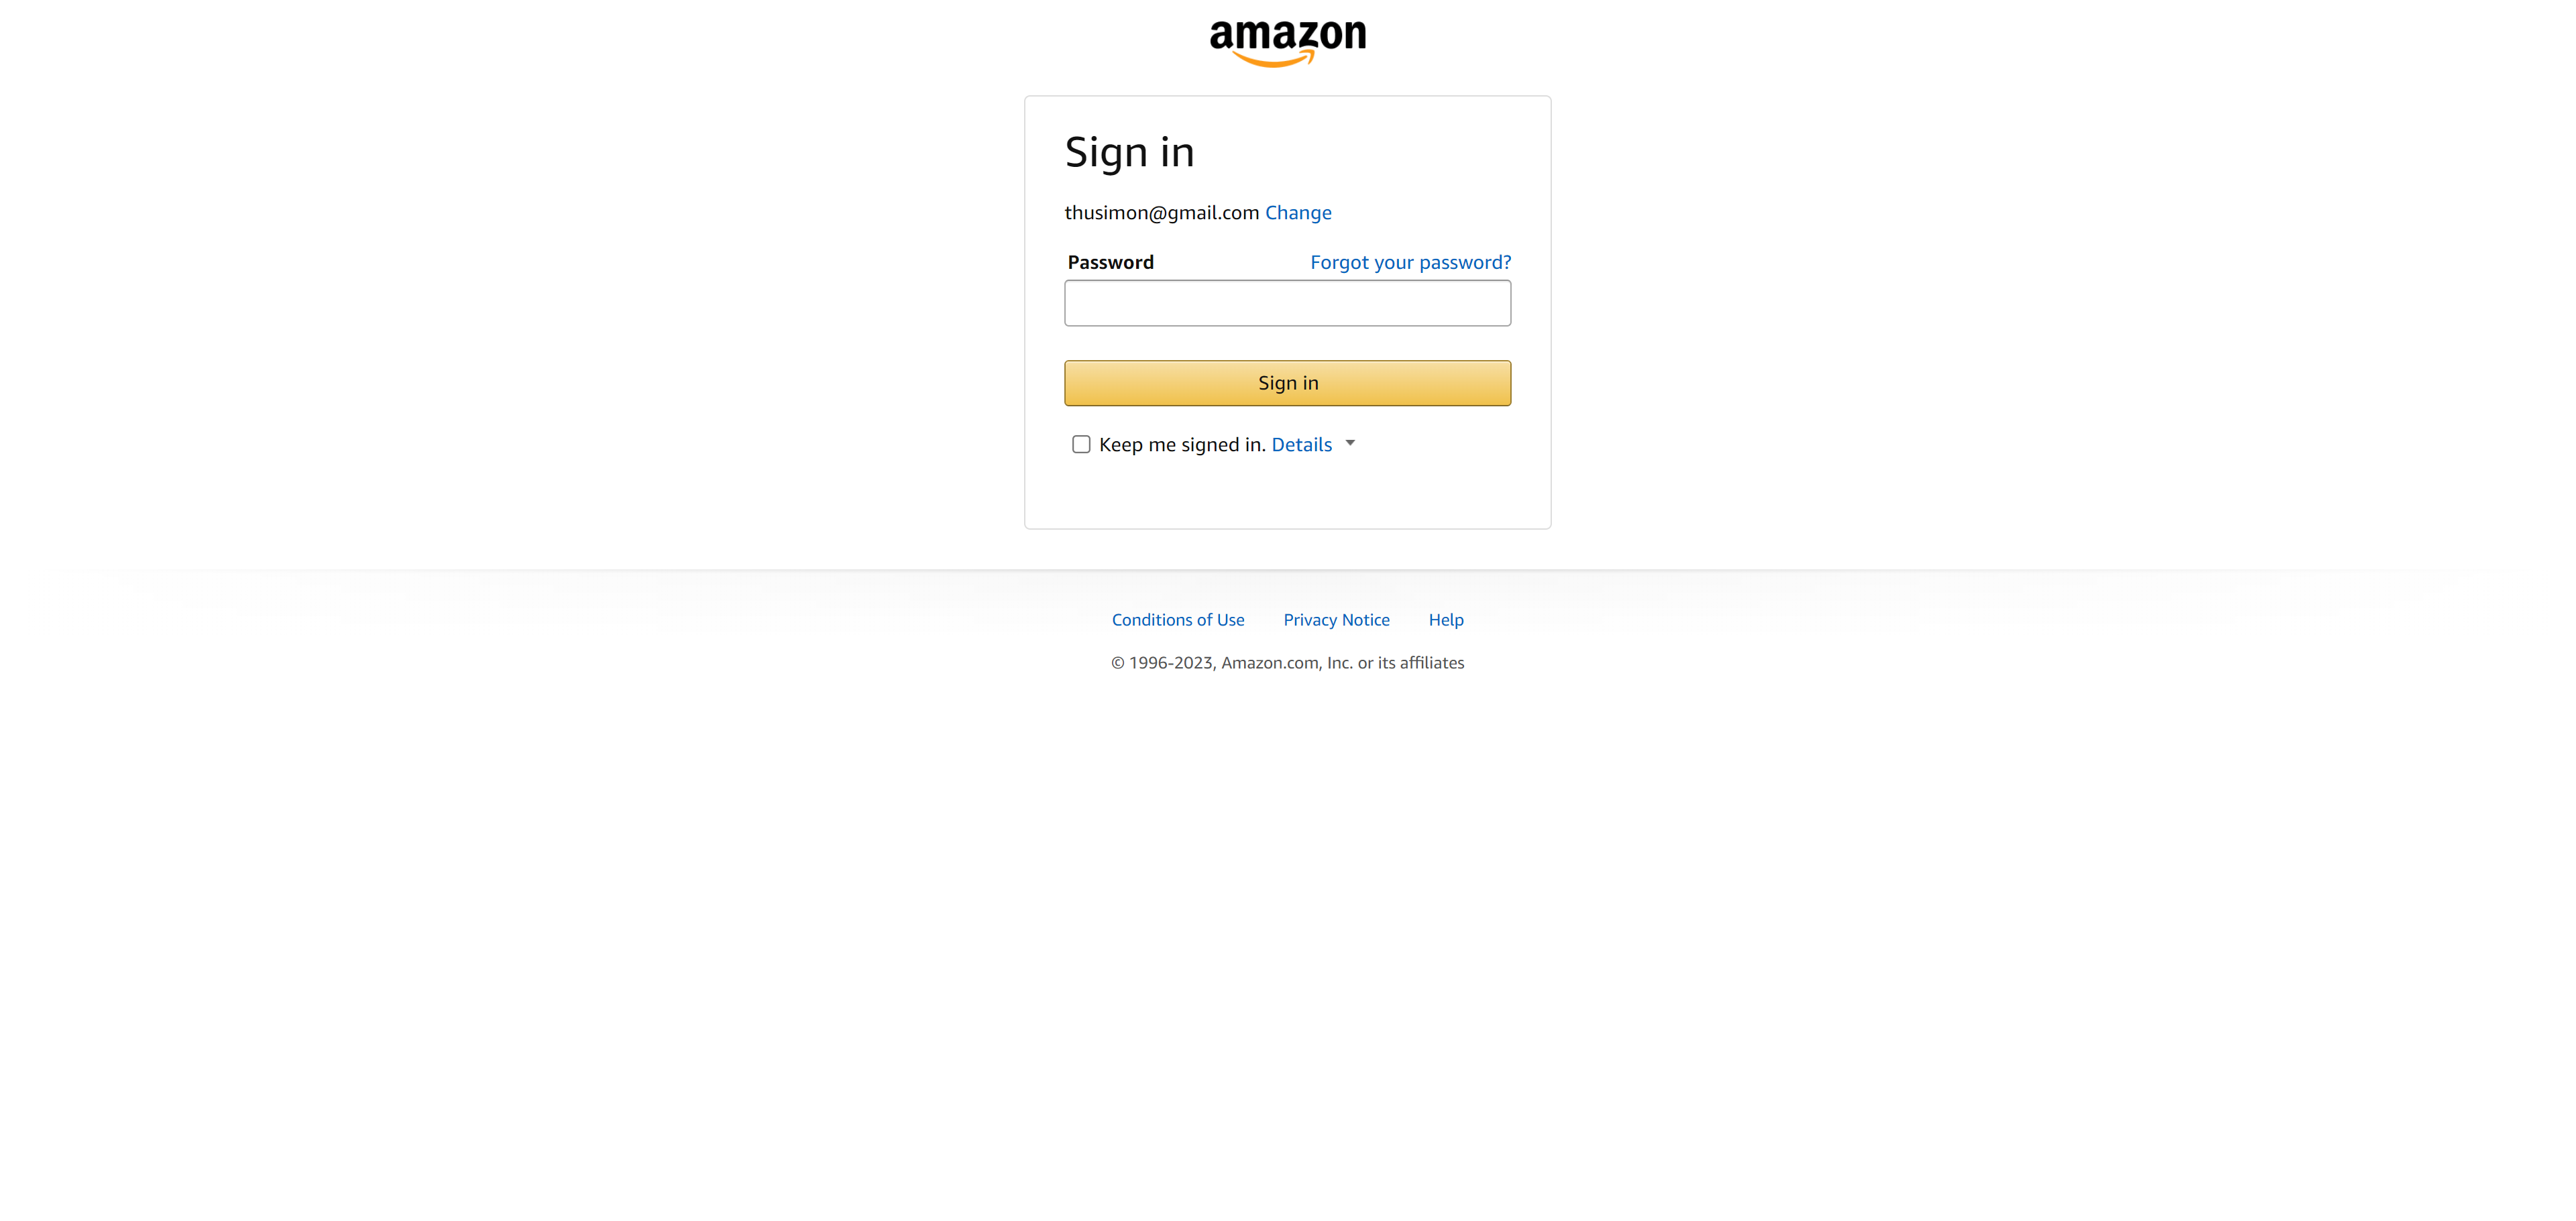login_button: (1065, 360, 1510, 406)
login_form: (1056, 248, 1520, 414)
